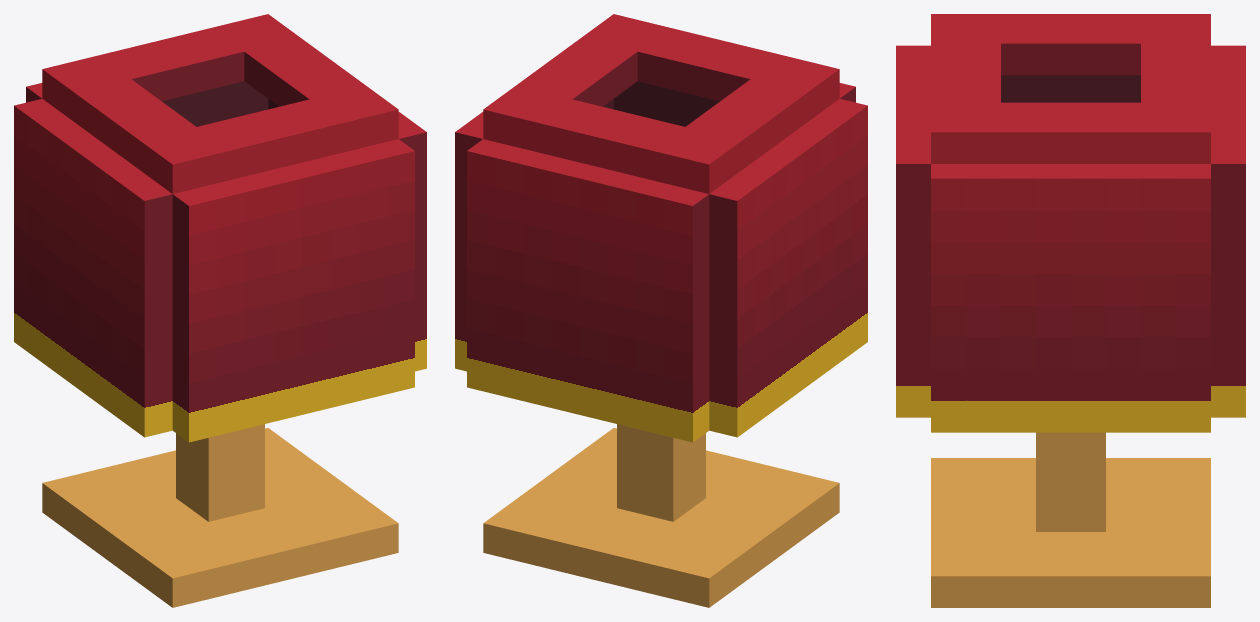
The model's file is SmallLamp.fbx.
3 views of the same model, side by side, from view 1: azimuth 30°, elevation 25°; view 2: azimuth 150°, elevation 25°; view 3: azimuth 270°, elevation 25° (orthographic). The views are drawn at different scales.
Parts seen in each view (by area): view 1: cube_5, cube_2, cube, cube_7, cube_6, cube_1, cube_8, cube_9, cube_3, cube_4; view 2: cube_4, cube_2, cube, cube_7, cube_6, cube_1, cube_9, cube_8, cube_3, cube_5; view 3: cube_3, cube, cube_6, cube_4, cube_5, cube_7, cube_1, cube_8, cube_9, cube_2.
Boxes of the visible parts, box(x1,y1,x2,y2) form: cube_5: box(172, 139, 414, 442); cube_2: box(14, 99, 172, 437); cube: box(42, 428, 398, 607); cube_7: box(42, 55, 229, 193); cube_6: box(212, 14, 398, 152); cube_1: box(176, 424, 264, 521); cube_8: box(197, 99, 342, 180); cube_9: box(99, 28, 244, 101); cube_3: box(268, 99, 426, 371); cube_4: box(26, 81, 268, 126); cube_4: box(467, 139, 709, 442); cube_2: box(709, 99, 867, 437); cube: box(483, 428, 839, 607); cube_7: box(652, 55, 839, 193); cube_6: box(483, 14, 669, 152); cube_1: box(617, 424, 705, 521); cube_9: box(539, 99, 684, 180); cube_8: box(637, 28, 782, 101); cube_3: box(455, 99, 613, 371); cube_5: box(613, 81, 855, 126); cube_3: box(931, 164, 1210, 432); cube: box(931, 458, 1210, 607); cube_6: box(931, 102, 1210, 163); cube_4: box(1211, 45, 1245, 417); cube_5: box(896, 45, 930, 417); cube_7: box(931, 14, 1210, 75); cube_1: box(1036, 432, 1105, 531); cube_8: box(931, 43, 1000, 102); cube_9: box(1141, 43, 1210, 102); cube_2: box(1001, 75, 1140, 102).
Size of the model in its own units: 62.5 by 93.75 by 62.5.
1 material, 1 textured.
